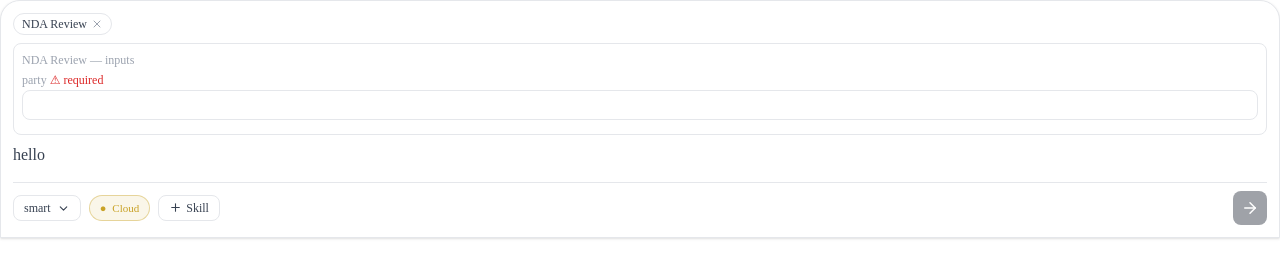
Scenario: Composer skill inputs › renders a required skill input and gates Send until it is filled
The width and height of the screenshot is (1280, 256).
Expected: the button named "Send" is disabled, [1233, 191, 1267, 225]
Type "Acme" into the field labelled "party" at point(640, 105), box [22, 90, 1258, 120]
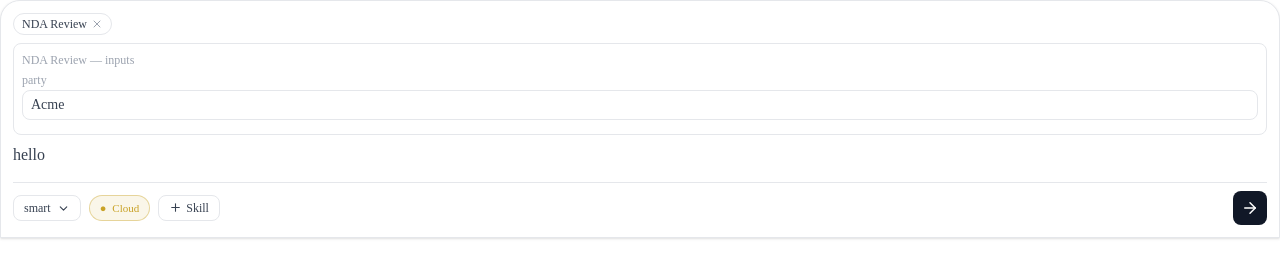
Expected: the button named "Send" is enabled, [1233, 191, 1267, 225]
